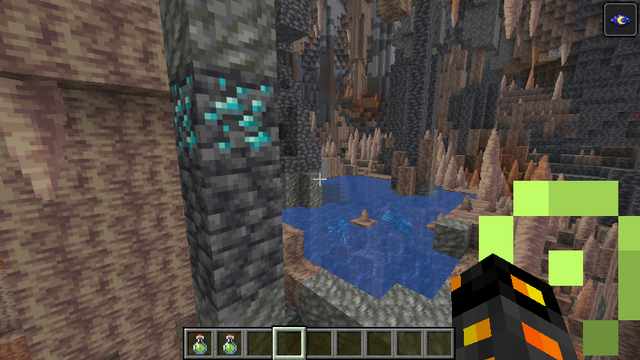diamond: (169, 68, 279, 152)
